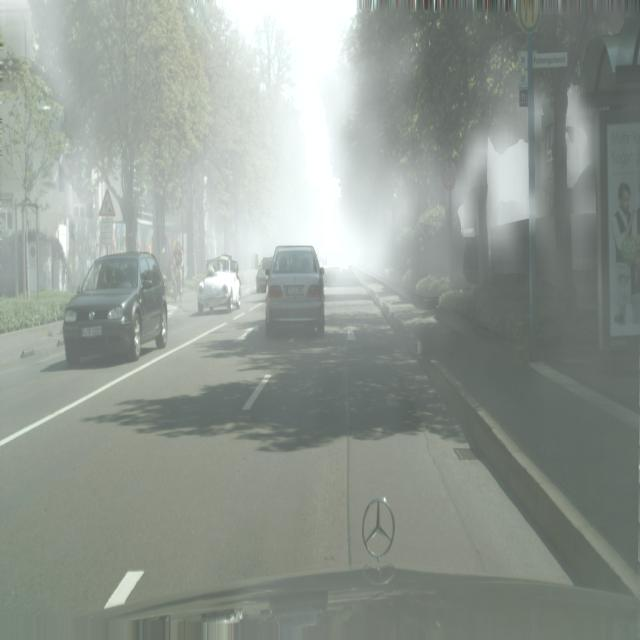car: (172, 241, 183, 309)
truck: (63, 253, 168, 367), (265, 245, 325, 338), (198, 254, 241, 314), (256, 257, 272, 294)
